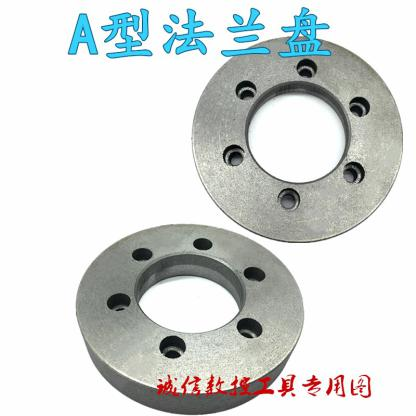FOD: (188, 31, 406, 246), (74, 222, 308, 414)
